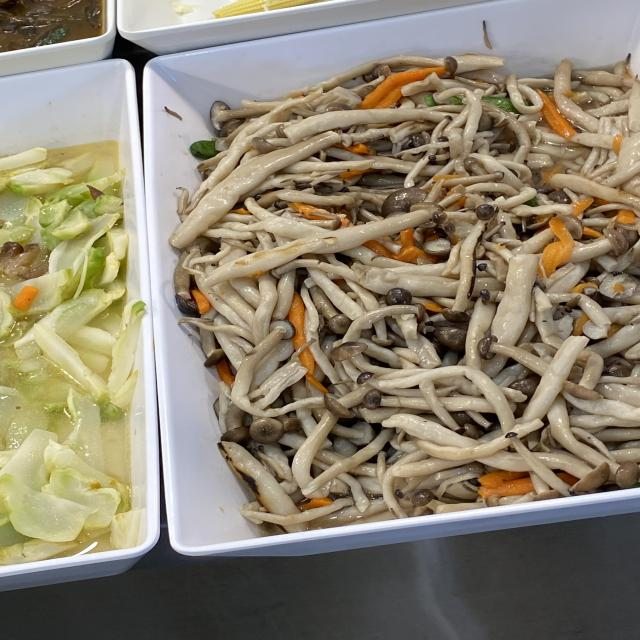brown swordbelt: (244, 116, 624, 424)
